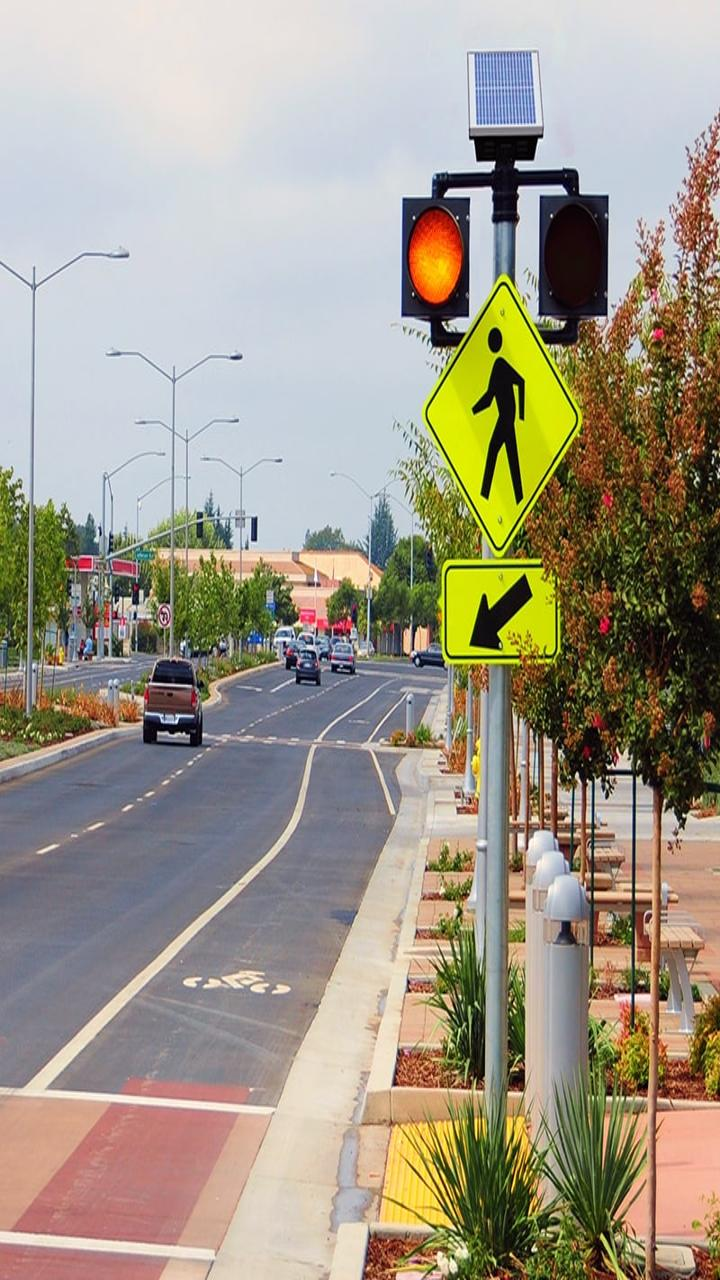Traffic sign: (367, 251, 618, 555), (395, 557, 676, 716)
vehicle: (118, 636, 238, 775), (286, 645, 336, 695)
